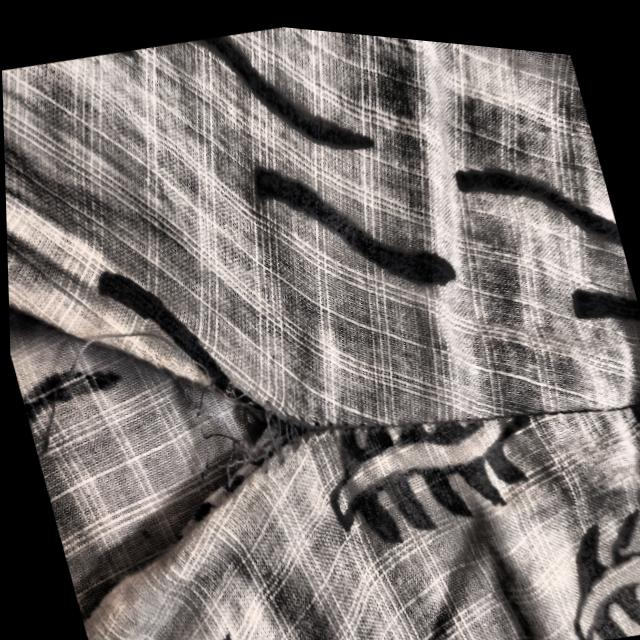Stitch: (6, 253, 366, 565)
